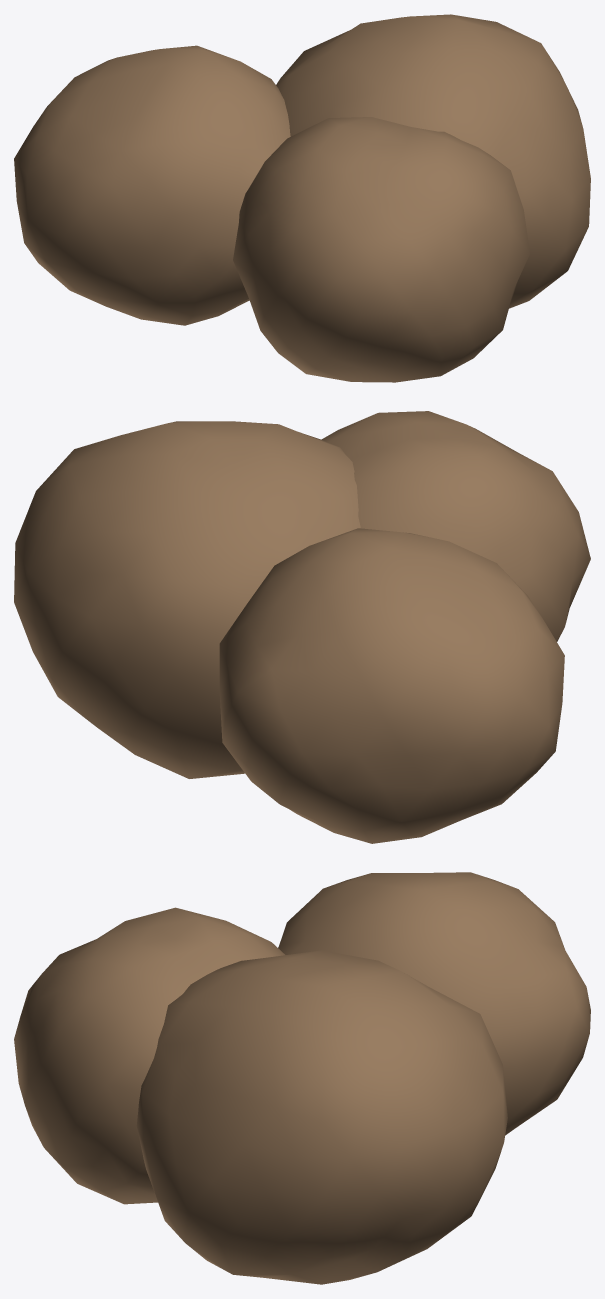
Rendered from SM_Beach_02_CoconutCluster.fbx.
The picture shows the model from 3 angles, top to bottom: view 1: azimuth 30°, elevation 25°; view 2: azimuth 150°, elevation 25°; view 3: azimuth 270°, elevation 25°; orthographic projection. The views are drawn at different scales.
Parts seen in each view (by area): view 1: SM_Beach_02_CoconutCluster; view 2: SM_Beach_02_CoconutCluster; view 3: SM_Beach_02_CoconutCluster.
Boxes of the visible parts, left/top/right/bottom form: SM_Beach_02_CoconutCluster: left=14, top=14, right=590, bottom=382; SM_Beach_02_CoconutCluster: left=14, top=411, right=590, bottom=843; SM_Beach_02_CoconutCluster: left=14, top=872, right=590, bottom=1284.
Bounding box in the file's own units: 52 × 27.97 × 48.25.
